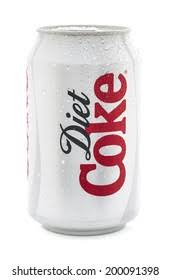can: (21, 18, 146, 242)
